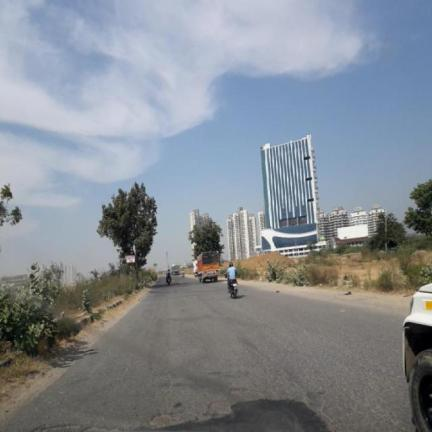Road: (2, 278, 412, 431)
